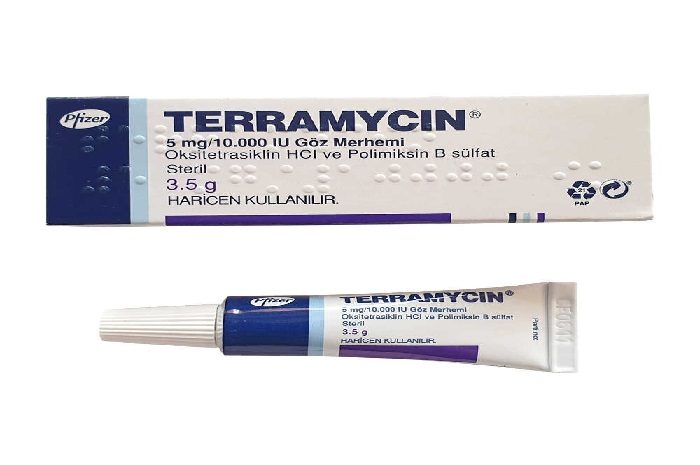Medicine: (35, 81, 660, 235), (79, 273, 605, 389)
